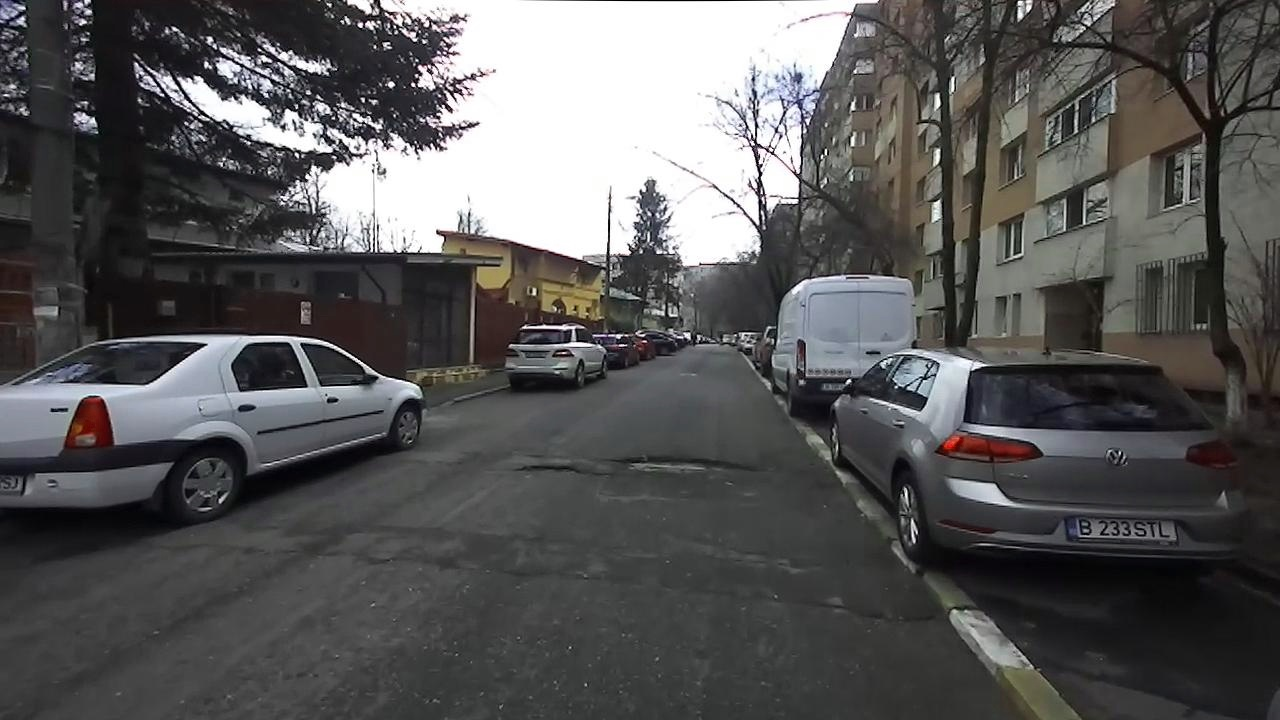pothole: (608, 450, 760, 478), (813, 598, 932, 631), (512, 460, 592, 478)
